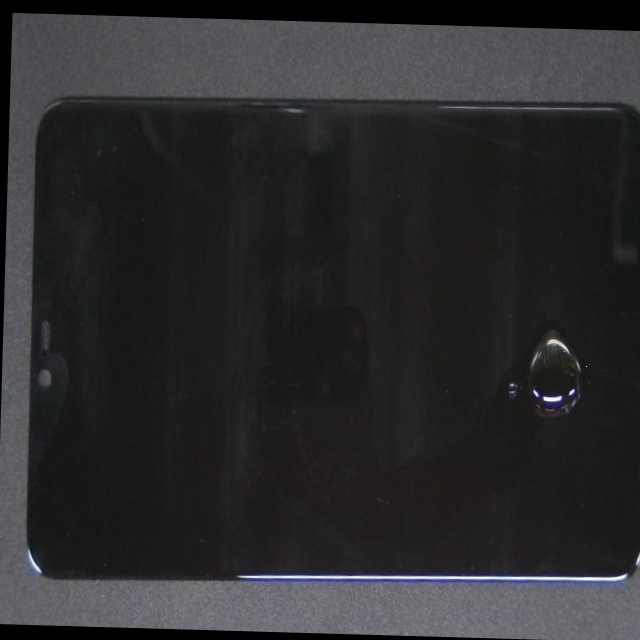oil: (278, 146, 640, 506)
